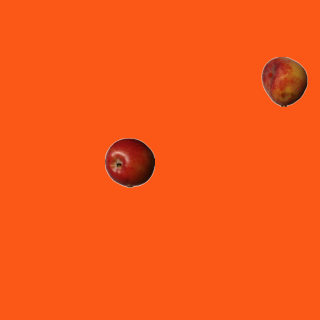Apple Braeburn: (104, 137, 154, 187)
Peach: (259, 56, 309, 106)
